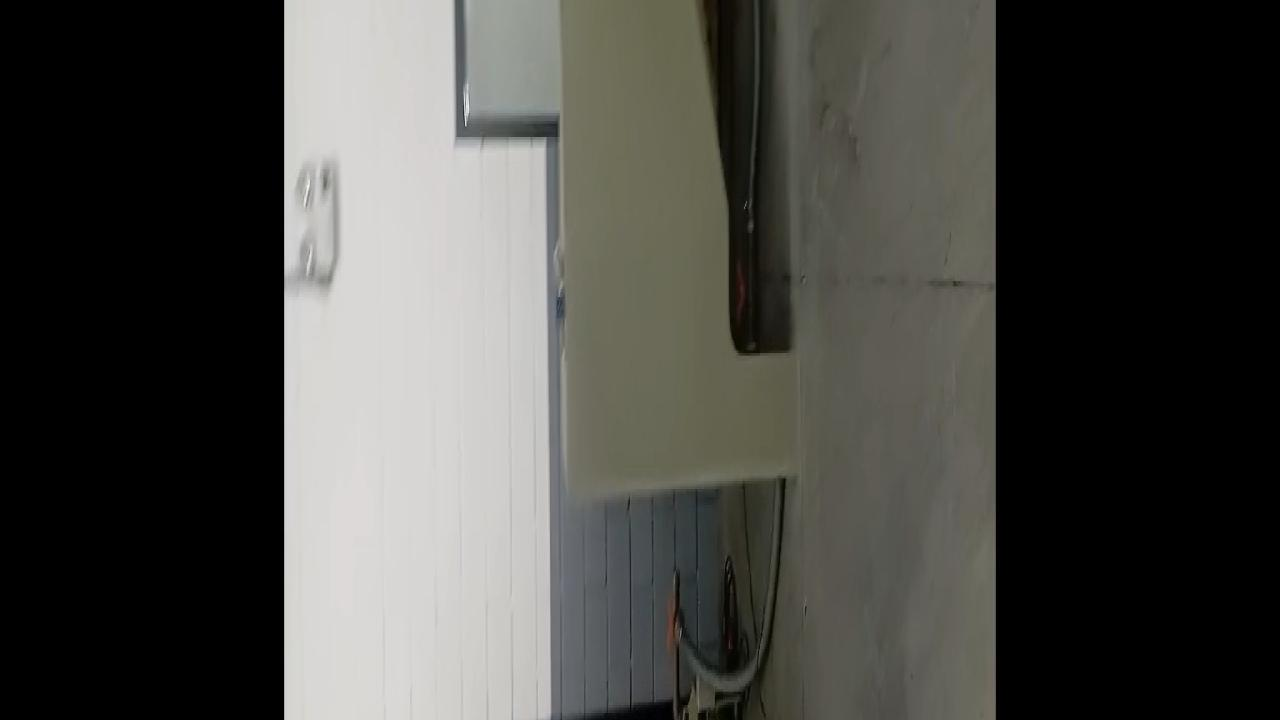Cube: (556, 280, 566, 324)
